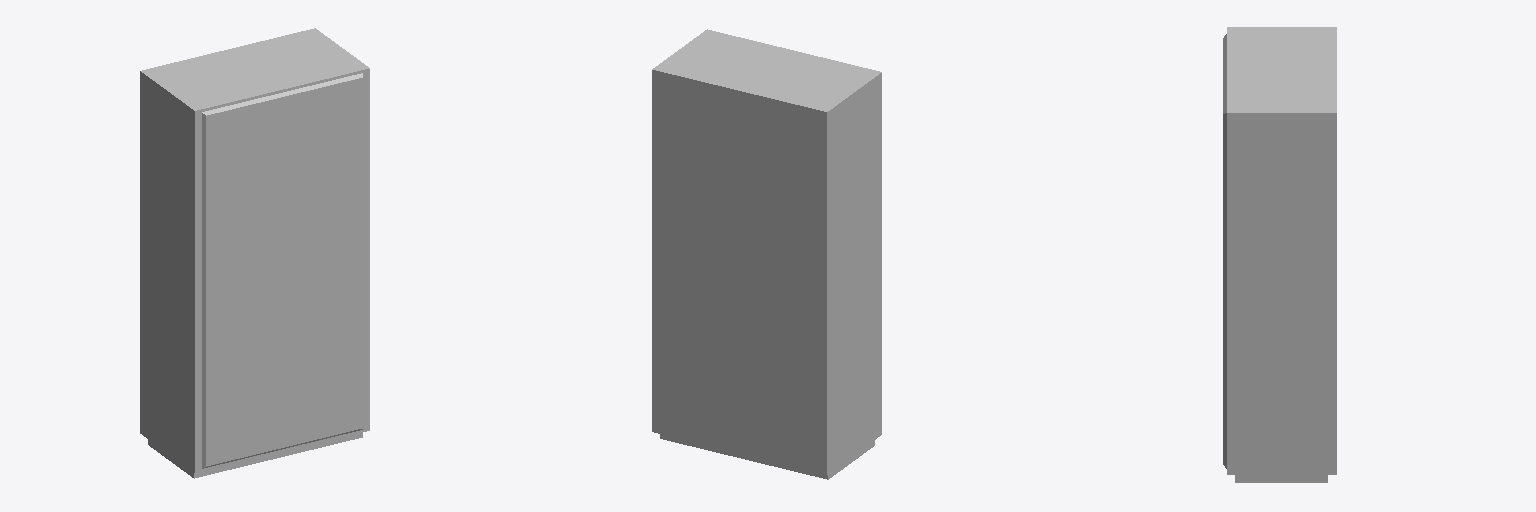
The model's file is breakroom_cabinet_tall.obj.
3 views of the same model, side by side, from view 1: azimuth 30°, elevation 25°; view 2: azimuth 150°, elevation 25°; view 3: azimuth 270°, elevation 25° (orthographic).
Parts seen in each view (by area): view 1: breakroom_cabinet_tall breakRoom_cabinetry godot_exports; view 2: breakroom_cabinet_tall breakRoom_cabinetry godot_exports; view 3: breakroom_cabinet_tall breakRoom_cabinetry godot_exports.
Boxes of the visible parts, <box> form: breakroom_cabinet_tall breakRoom_cabinetry godot_exports: <box>140,28,369,478</box>; breakroom_cabinet_tall breakRoom_cabinetry godot_exports: <box>652,29,881,479</box>; breakroom_cabinet_tall breakRoom_cabinetry godot_exports: <box>1223,27,1336,482</box>.
Bounding box in the file's own units: 1.09 × 2.21 × 0.6089.